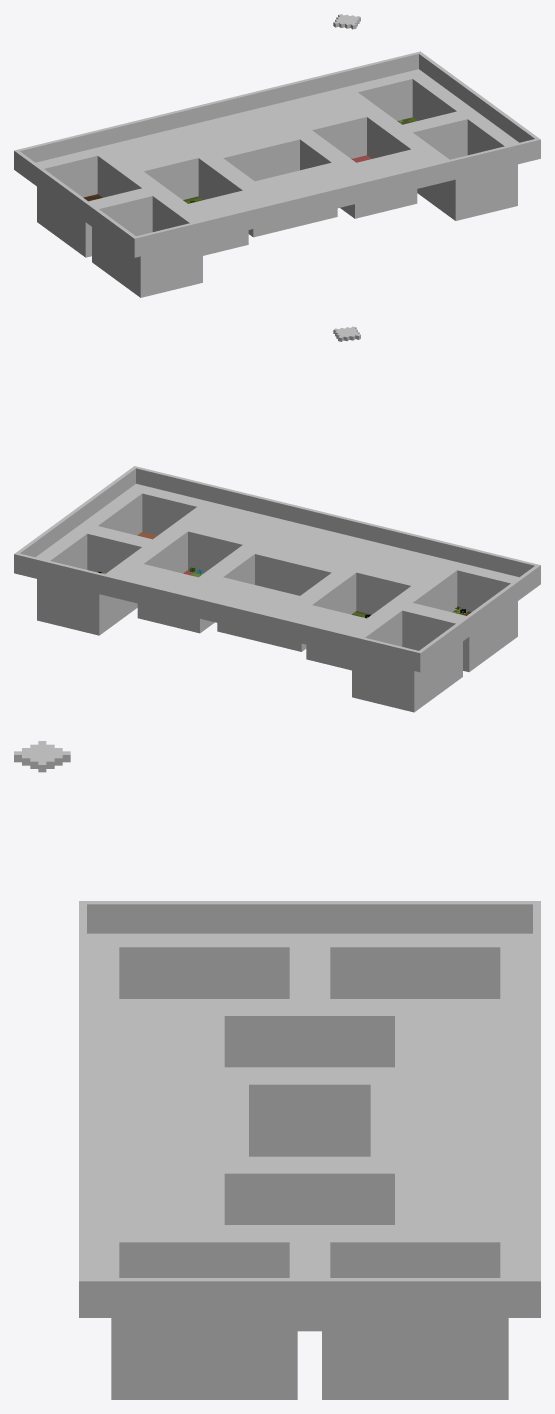
The model's file is minecraft.obj.
3 renders of one model, top to bottom at view 1: azimuth 30°, elevation 25°; view 2: azimuth 150°, elevation 25°; view 3: azimuth 270°, elevation 25°, orthographic. The views are drawn at different scales.
Size of the model in its own units: 111 by 64 by 65.
